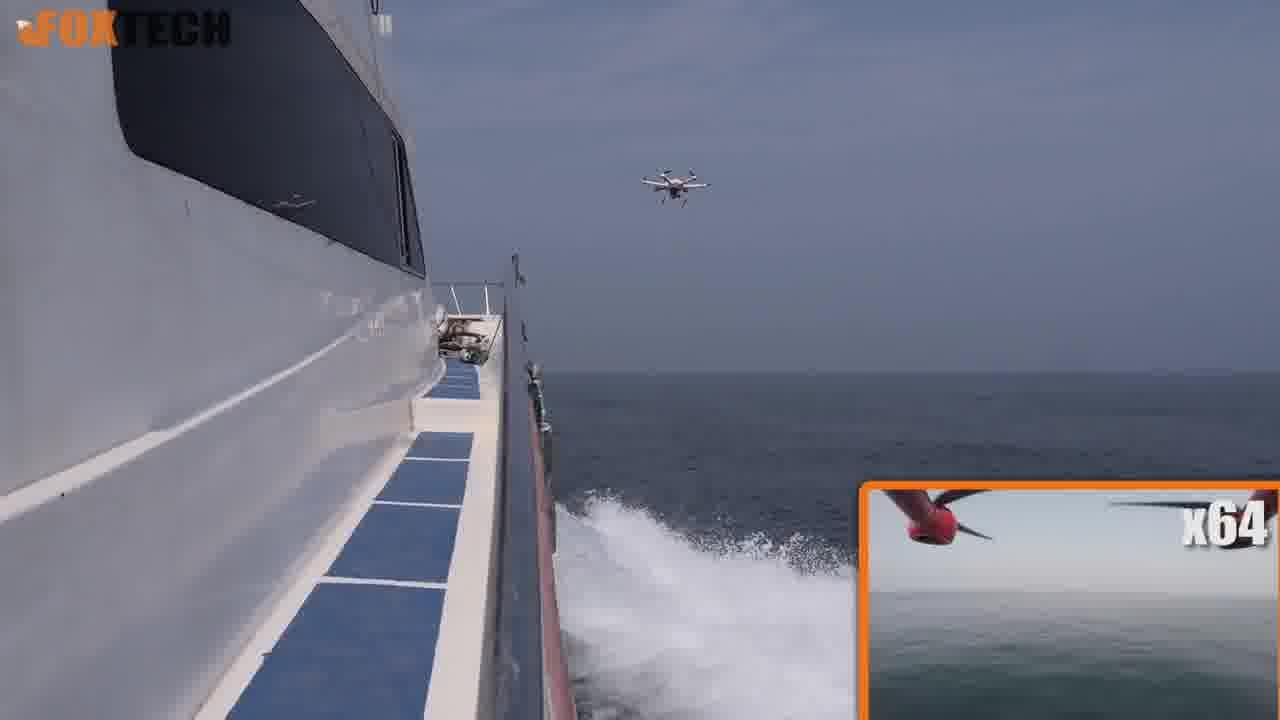drone: (627, 157, 712, 210)
